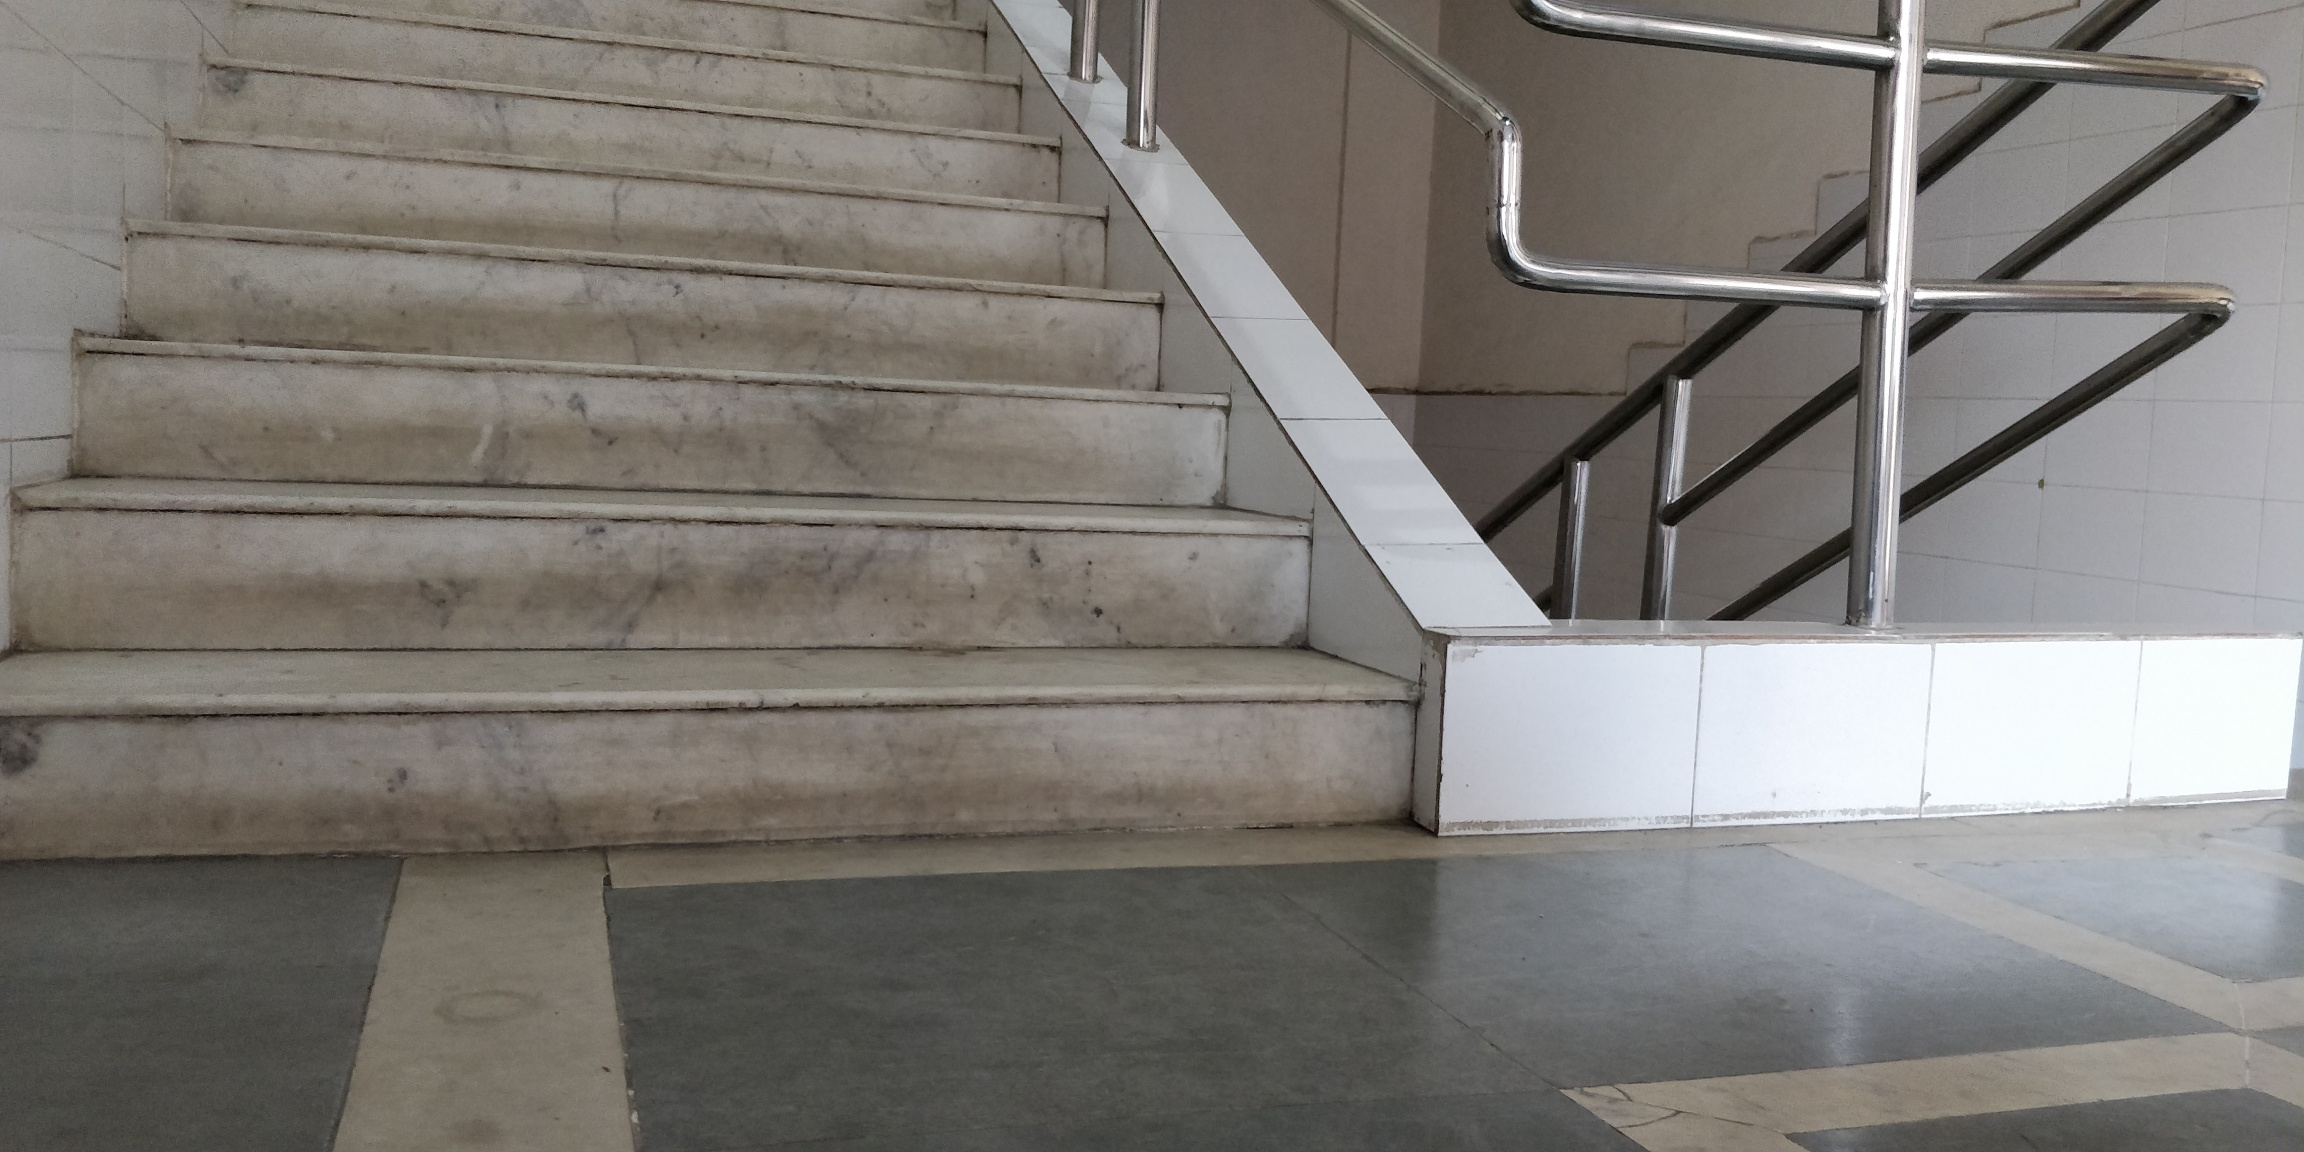stairs_up: (13, 6, 1427, 871)
